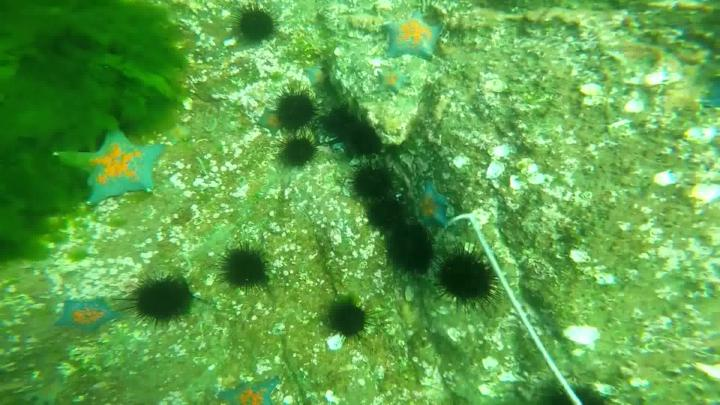echinus: (56, 127, 165, 204), (113, 275, 194, 329), (438, 249, 499, 309), (380, 12, 443, 64), (325, 106, 380, 155), (219, 241, 268, 296), (386, 221, 434, 273), (56, 299, 119, 335), (325, 296, 373, 338), (215, 376, 281, 405), (413, 179, 446, 234), (275, 91, 317, 134), (233, 6, 274, 44), (356, 166, 398, 202), (371, 199, 410, 231), (541, 387, 607, 405), (280, 136, 316, 168), (380, 63, 408, 95), (305, 64, 332, 86)
scallop: (560, 325, 601, 346), (693, 185, 720, 205), (487, 160, 509, 181), (685, 129, 717, 143), (647, 71, 681, 84), (654, 171, 682, 186), (582, 84, 606, 97), (626, 96, 644, 112), (489, 79, 508, 93)
